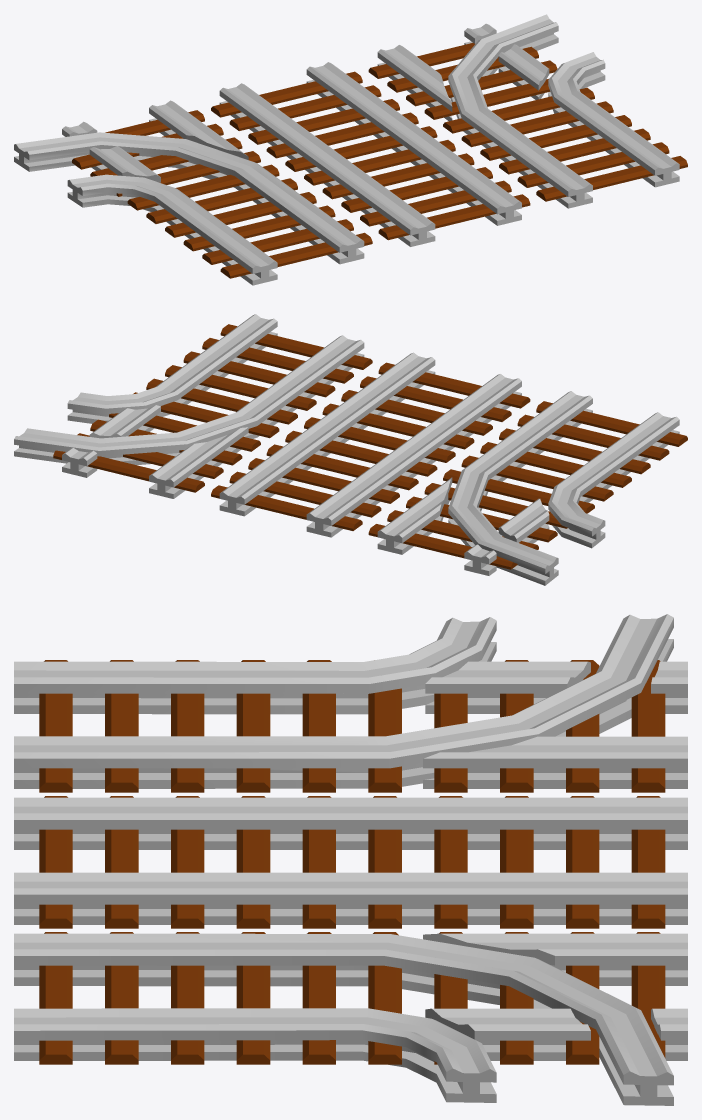
File: RailsWithRotator 1.fbx
The picture shows the model from 3 angles, top to bottom: view 1: azimuth 30°, elevation 25°; view 2: azimuth 150°, elevation 25°; view 3: azimuth 270°, elevation 25°; orthographic projection. The views are drawn at different scales.
Visible parts, largest first — view 1: Cube.005, Cube.004, Cube, Cube.001, Cube.003, Cube.002; view 2: Cube.004, Cube.005, Cube, Cube.001, Cube.002, Cube.003; view 3: Cube.004, Cube.005, Cube, Cube.001, Cube.002, Cube.003.
Part boxes in pixels (box(x1,y1,x2,y2)): Cube.005: box(14, 100, 364, 285); Cube.004: box(377, 14, 679, 208); Cube: box(219, 62, 521, 246); Cube.001: box(211, 71, 530, 240); Cube.003: box(368, 43, 687, 201); Cube.002: box(72, 110, 372, 278); Cube.004: box(14, 314, 364, 498); Cube.005: box(377, 391, 679, 585); Cube: box(219, 352, 521, 537); Cube.001: box(211, 362, 530, 530); Cube.002: box(368, 401, 687, 569); Cube.003: box(53, 324, 372, 492); Cube.004: box(14, 933, 687, 1105); Cube.005: box(14, 614, 687, 788); Cube: box(14, 797, 687, 924); Cube.001: box(39, 796, 665, 928); Cube.002: box(39, 660, 665, 792); Cube.003: box(39, 932, 665, 1064).
Size of the model in its own units: 646 by 22.31 by 402.
